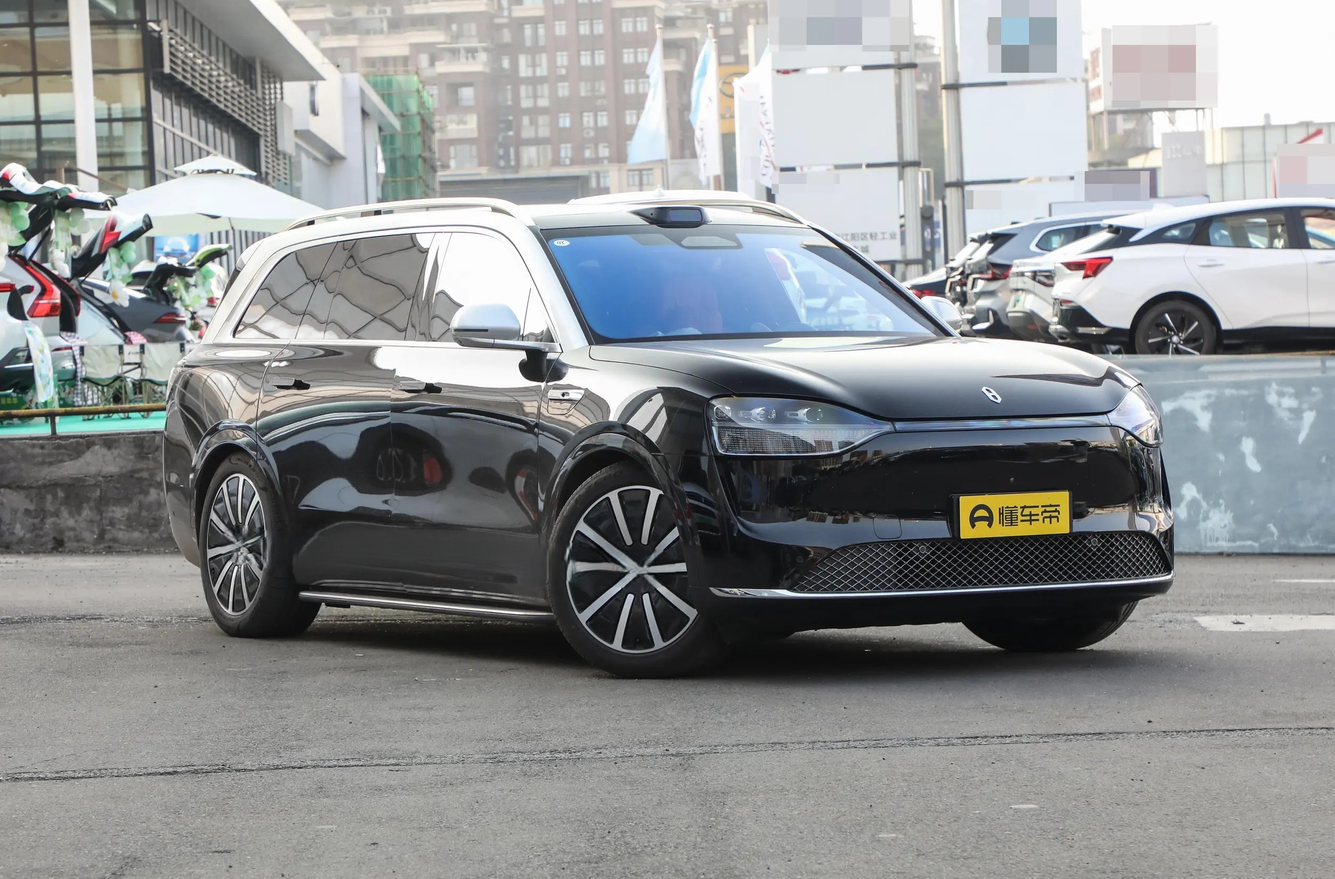AITO: (982, 387, 1001, 403)
